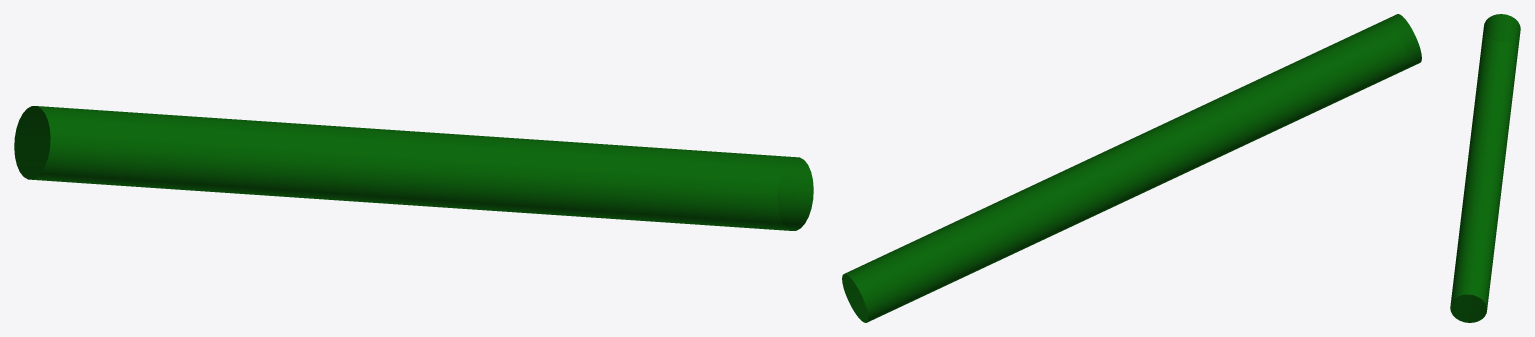
The model's file is Event_127732675_jet_4.fbx.
The picture shows the model from 3 angles, left to right: view 1: azimuth 30°, elevation 25°; view 2: azimuth 210°, elevation 25°; view 3: azimuth 270°, elevation 25°; orthographic projection. The views are drawn at different scales.
Parts seen in each view (by area): view 1: Model; view 2: Model; view 3: Model.
Part boxes in pixels (box(x1,y1,x2,y2)): Model: box(14, 106, 813, 230); Model: box(842, 14, 1421, 322); Model: box(1450, 14, 1520, 322).
Size of the model in its own units: 0.4642 by 0.1603 by 0.0759.
